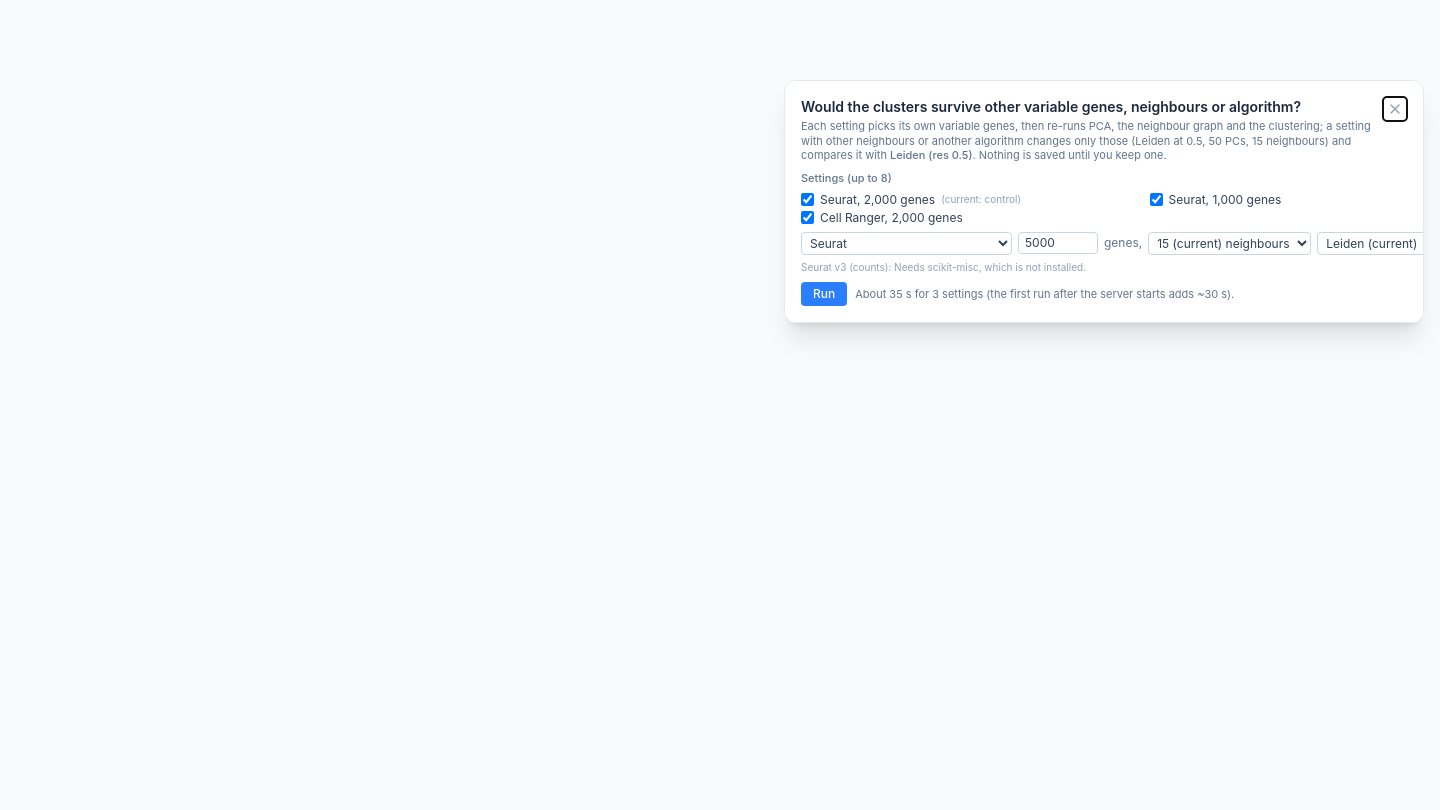
Test case: HvgSensitivityPanel › warns when the control does not reproduce the stored clusters
The width and height of the screenshot is (1440, 810).
Step 1. Click the button "Run" → coordinates (824, 294), box [801,282,847,306]
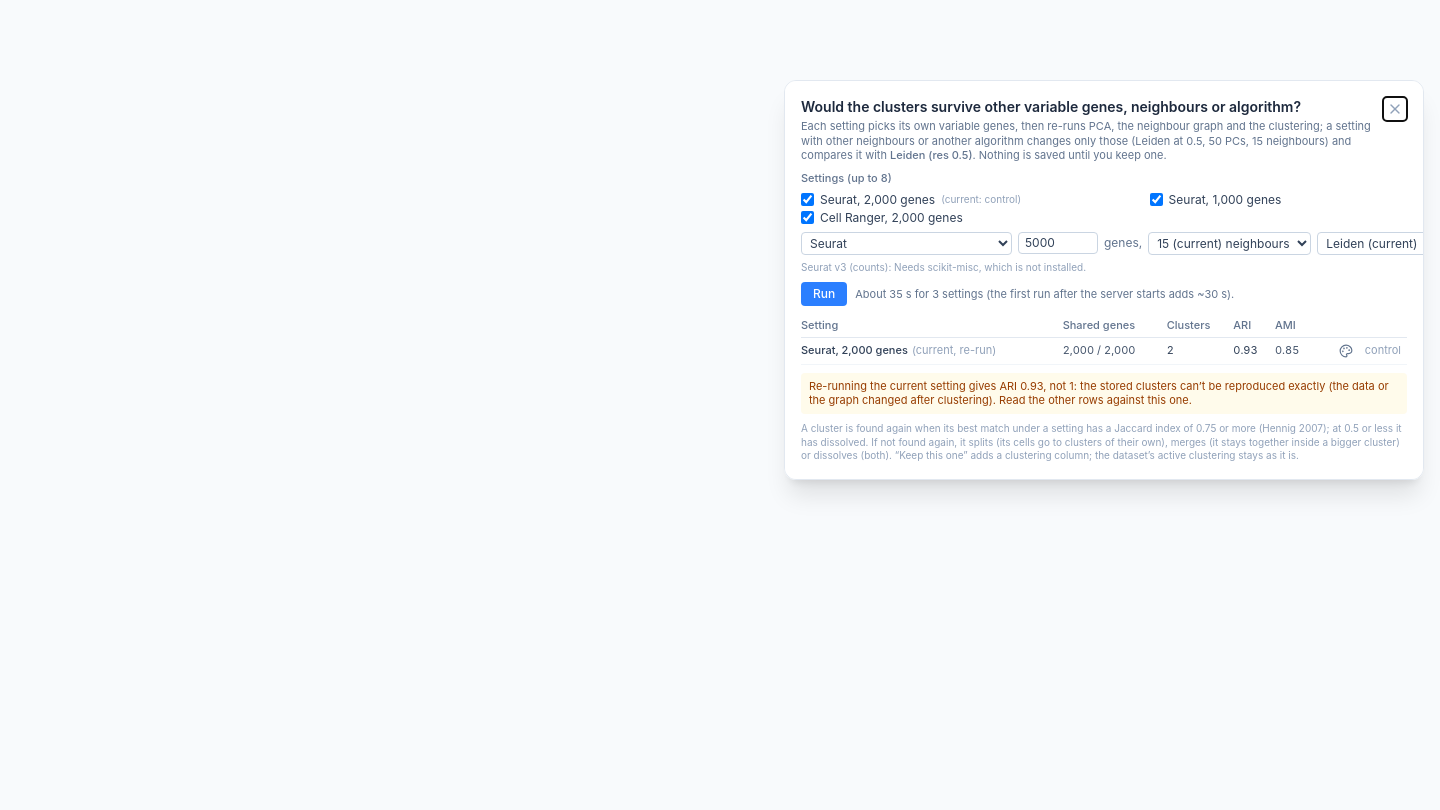
Now the text "Re-running the current setting gives ARI 0.93, not 1" is shown, box [801,373,1407,414]
